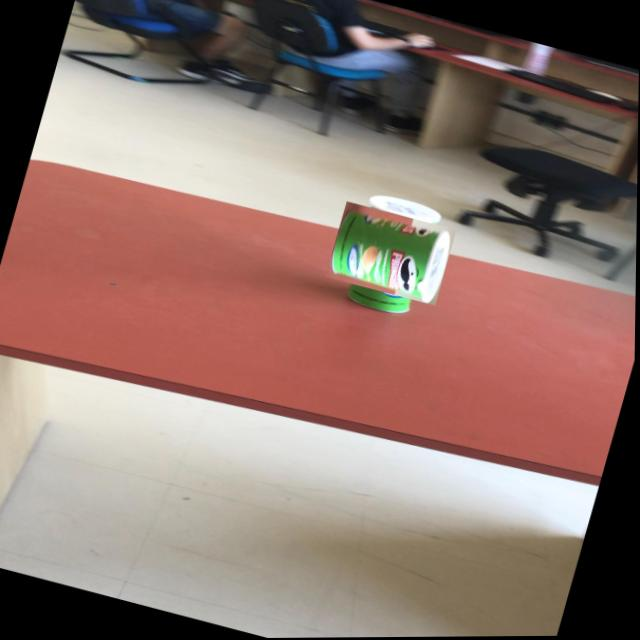a pringles: (331, 195, 451, 314)
